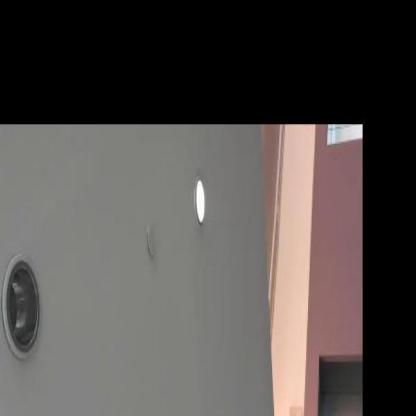light_off: (0, 230, 54, 380)
